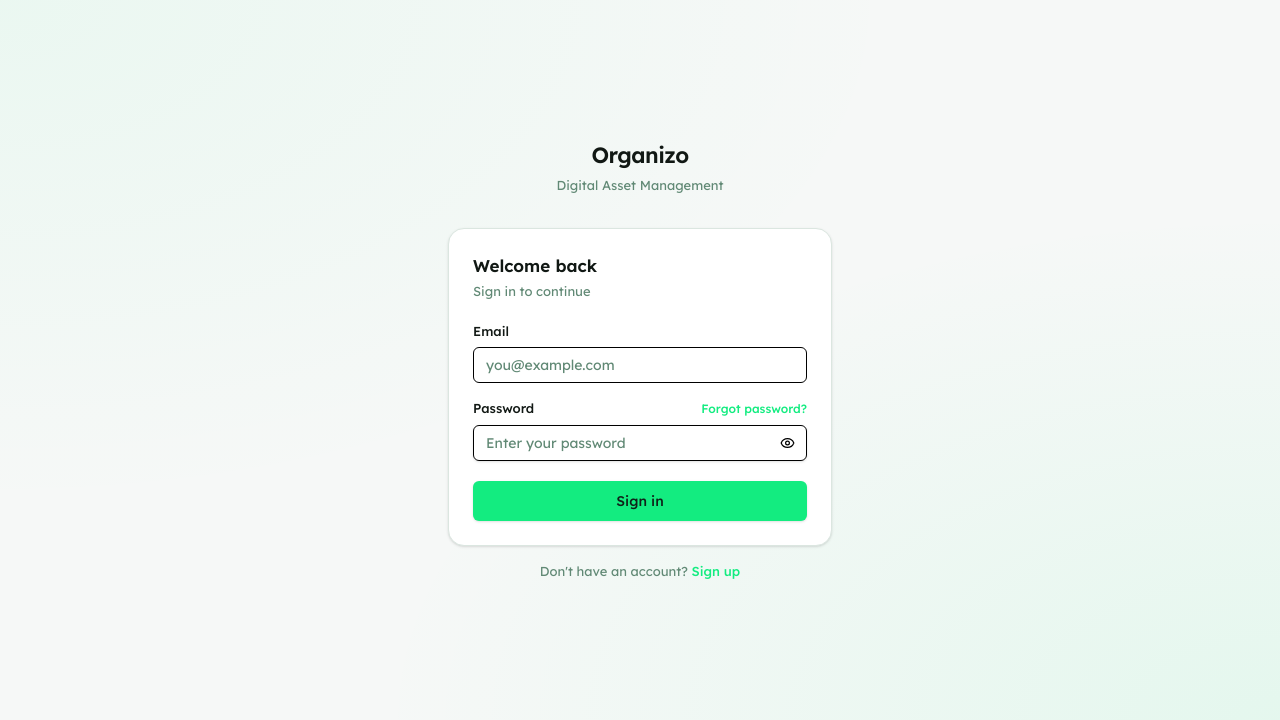
Test: LoginPage › shows a validation error when password is missing
The image size is (1280, 720).
In the field labelled "Email": [640, 365] box [473, 347, 807, 383], type "test@example.com"
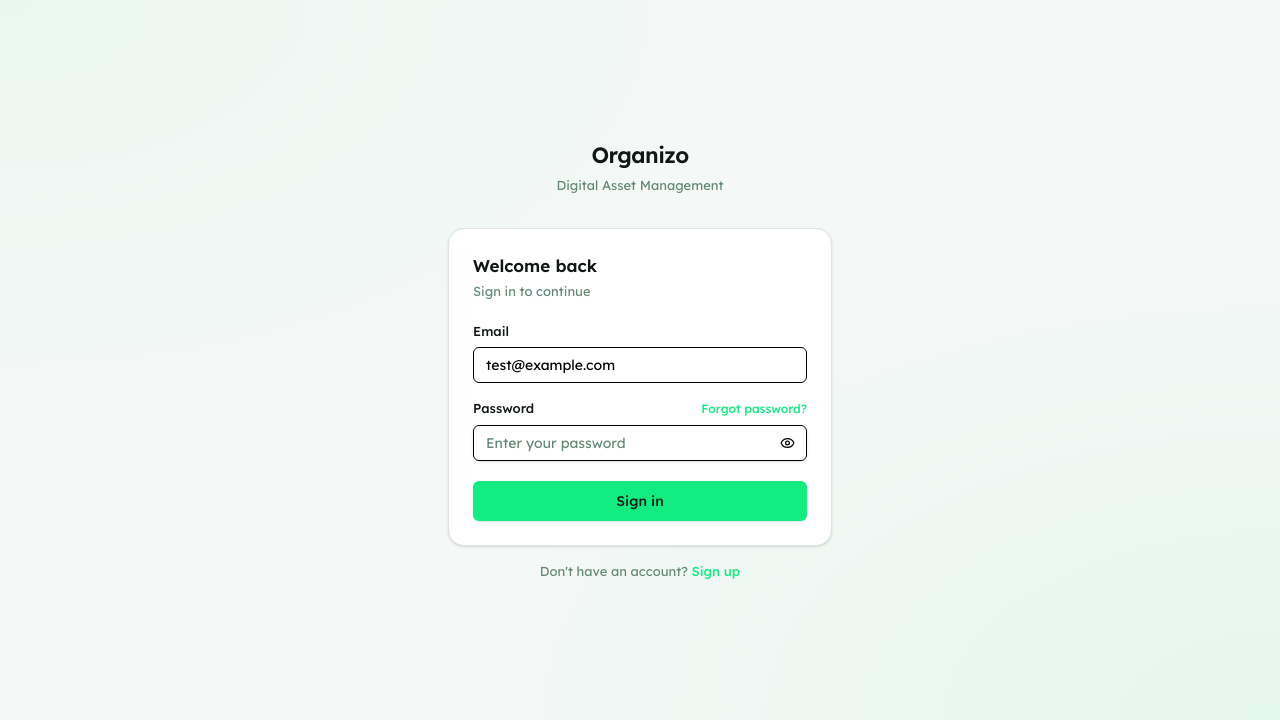
Click the button "Sign in": [640, 500] box [473, 480, 807, 520]
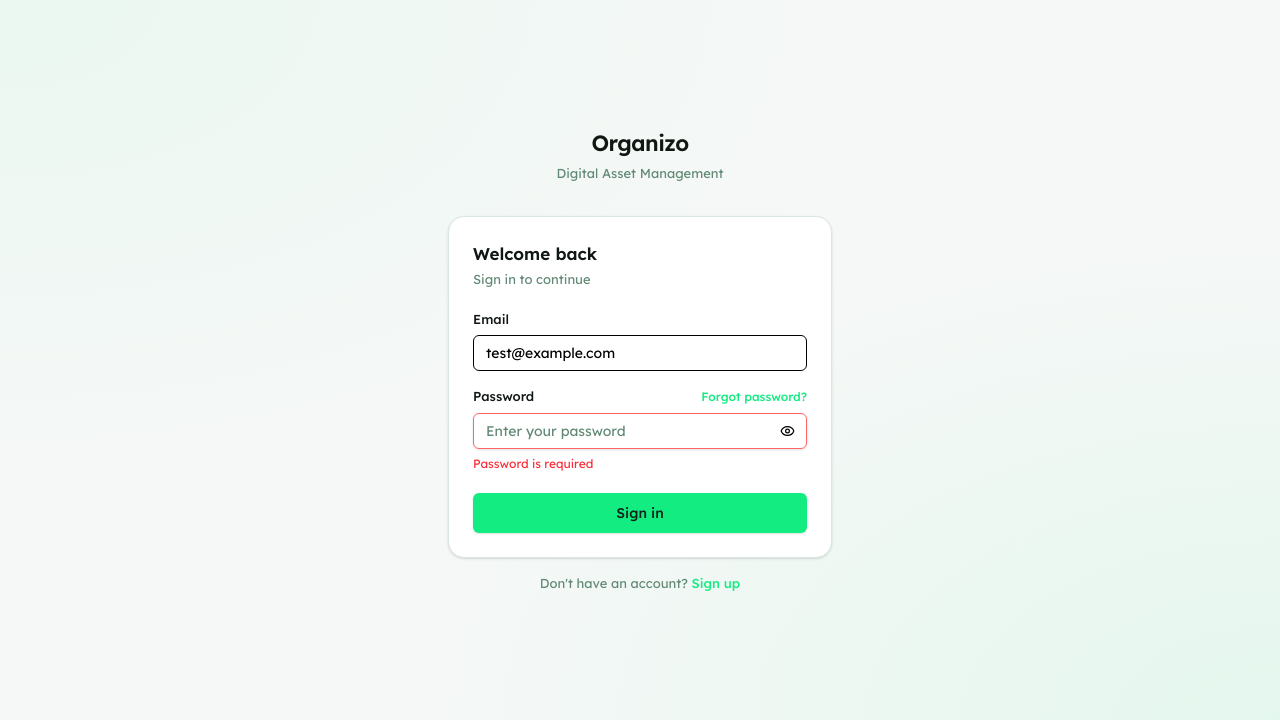
Expected: the text "Password is required" is shown, [473, 456, 593, 470]
